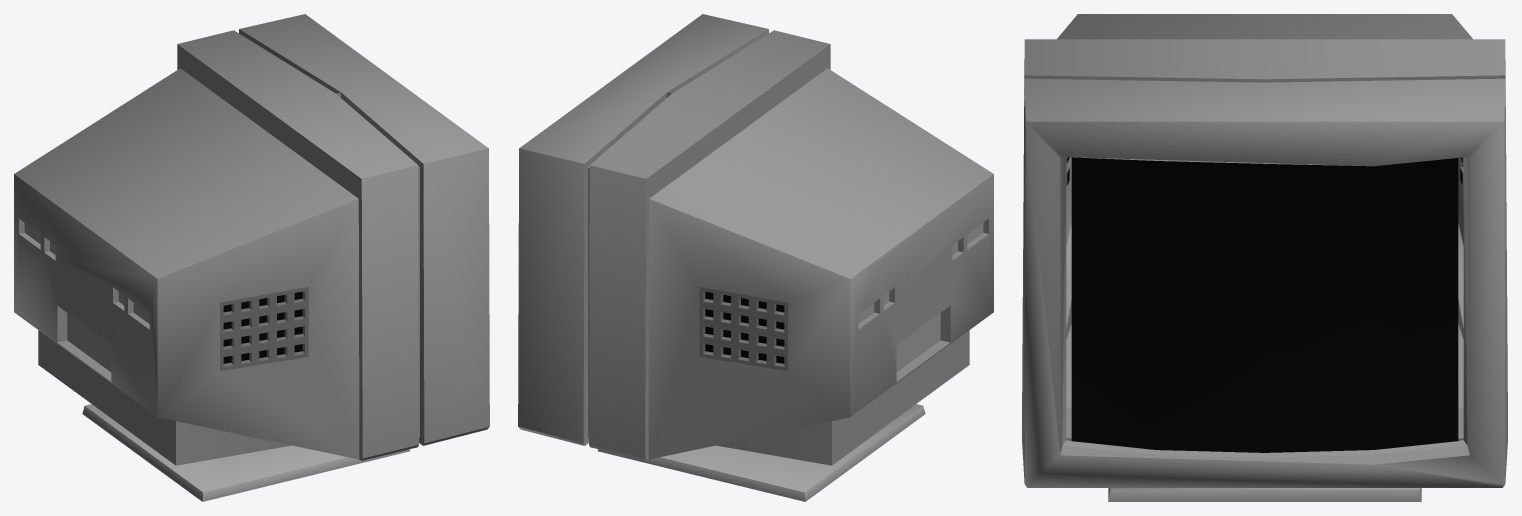
The model's file is monitor-02.lod.glb.
3 views of the same model, side by side, from view 1: azimuth 30°, elevation 25°; view 2: azimuth 150°, elevation 25°; view 3: azimuth 270°, elevation 25° (orthographic). The views are drawn at different scales.
Parts seen in each view (by area): view 1: Mesh_Monitor_02; view 2: Mesh_Monitor_02; view 3: Mesh_Monitor_02.
Boxes of the visible parts, box(x1,y1,x2,y2) form: Mesh_Monitor_02: box(14, 14, 489, 501); Mesh_Monitor_02: box(518, 14, 993, 501); Mesh_Monitor_02: box(1022, 14, 1507, 501).
Size of the model in its own units: 0.6206 by 0.5629 by 0.5993.
Materials: 1 (1 with a texture image).
